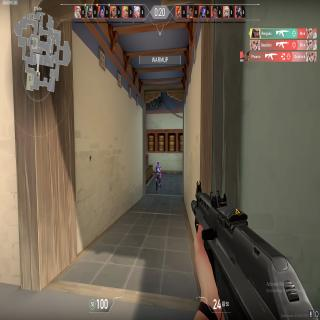ENEMY-BODY: (154, 160, 162, 193)
ENEMY-HEAD: (157, 162, 159, 166)
